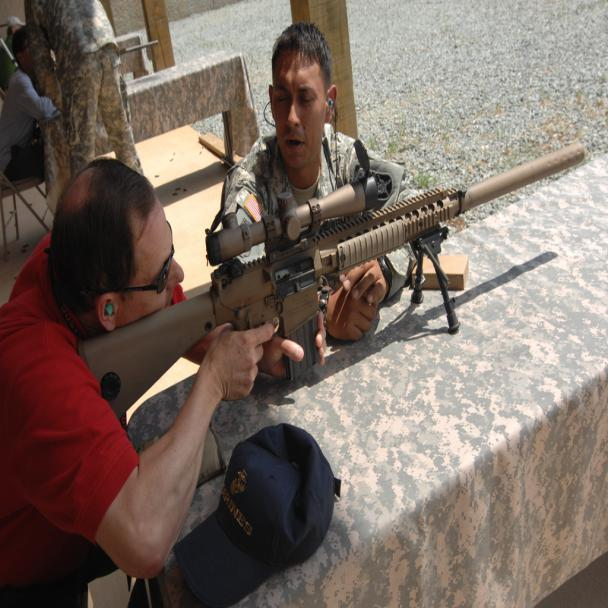Gun: (86, 138, 594, 418)
